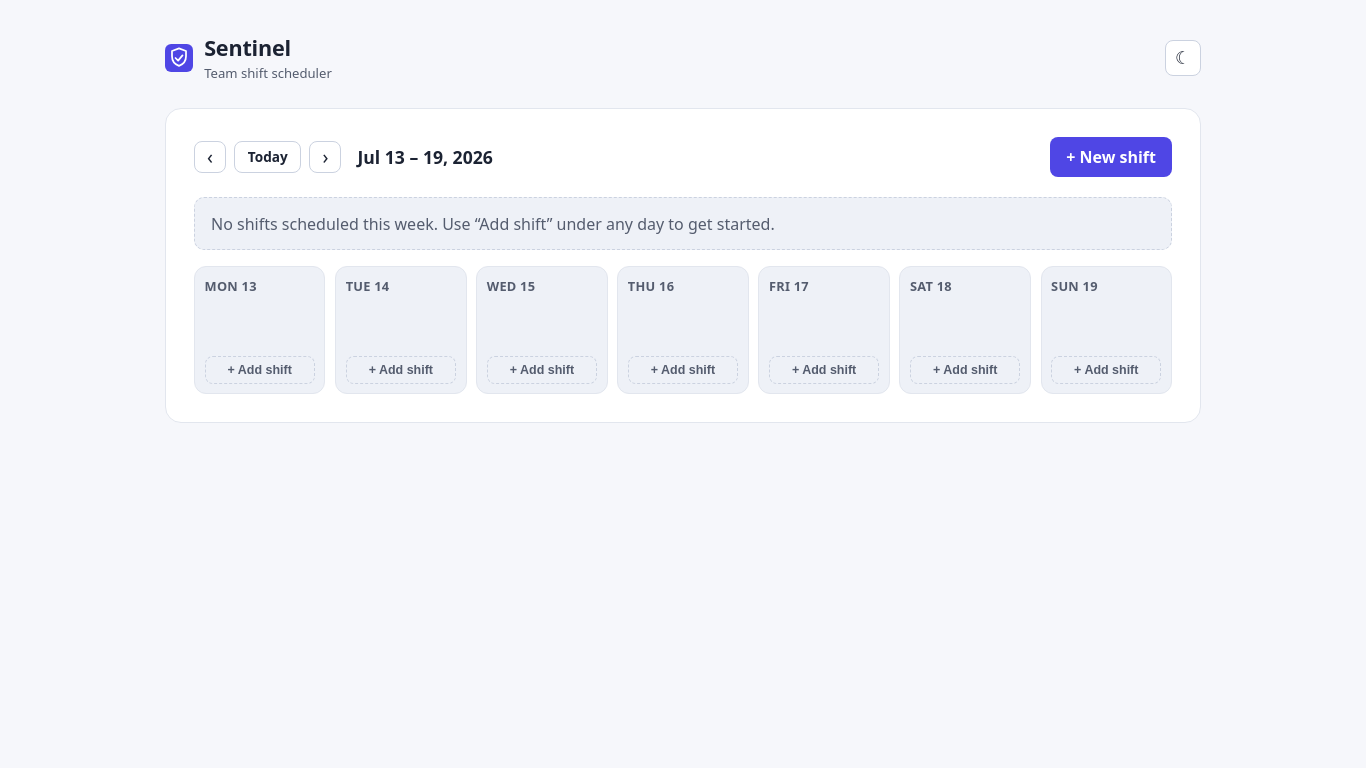
Test case: App › flags a conflict on both cards after creating an overlapping shift
This screenshot has width=1366, height=768.
Expected: the text "No shifts scheduled this week" is shown, [211,213,775,235]
# Create the first shift for Ada, this week.
Click the button "+ New shift" at [1111, 157], box [1050,137,1172,177]
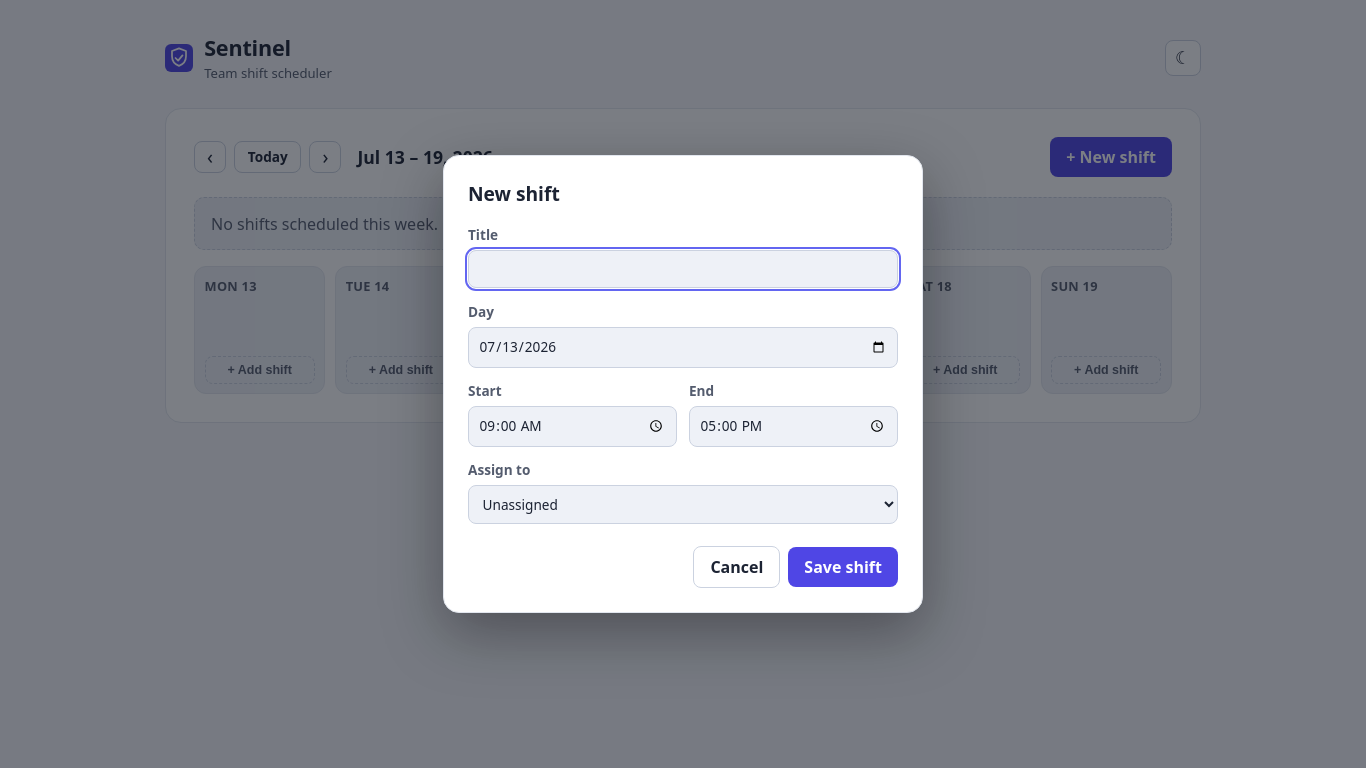
Type "Alpha" into the field labelled "Title" at [683, 269], box [468,250,898,288]
Select "Ada Lovelace" in the dropdown labelled "Assign to" at [683, 505], box [468,486,898,524]
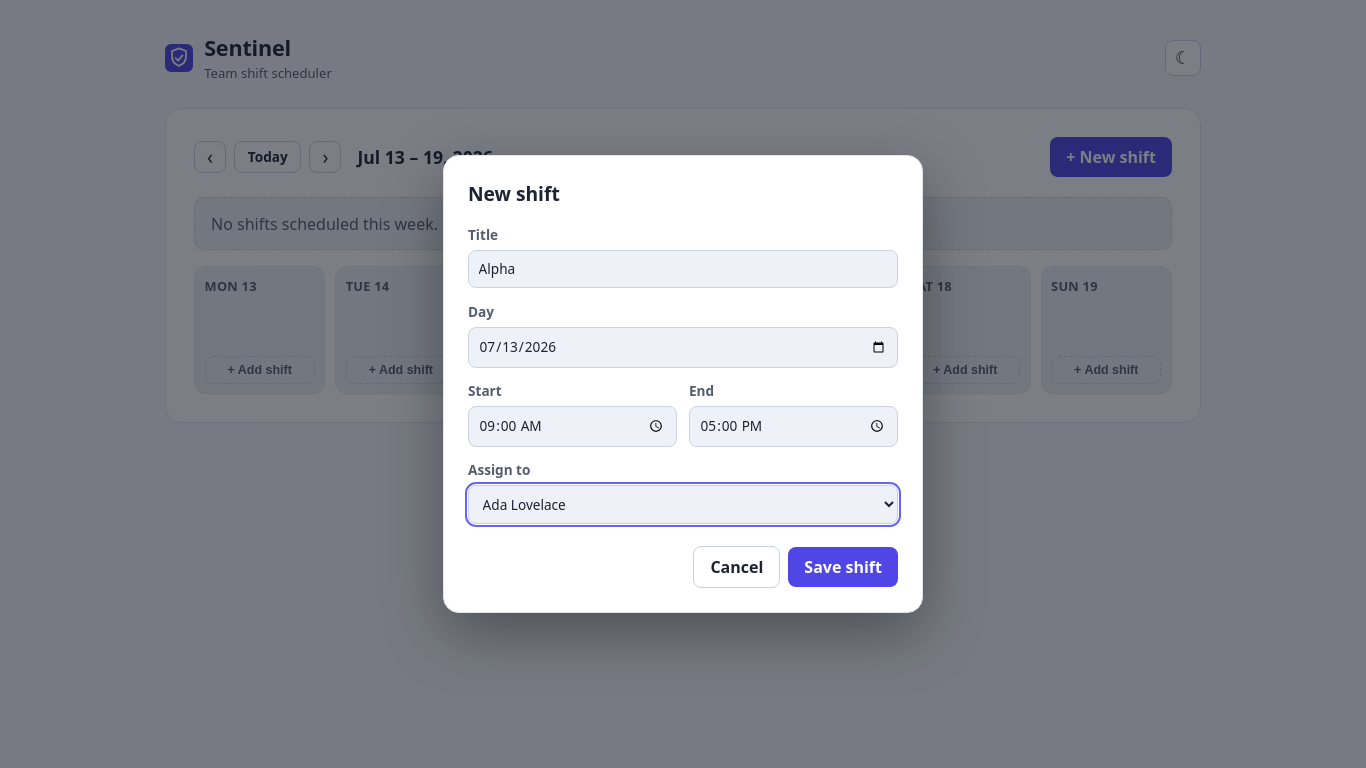
Click the button "Save shift" at [843, 567], box [788,547,898,587]
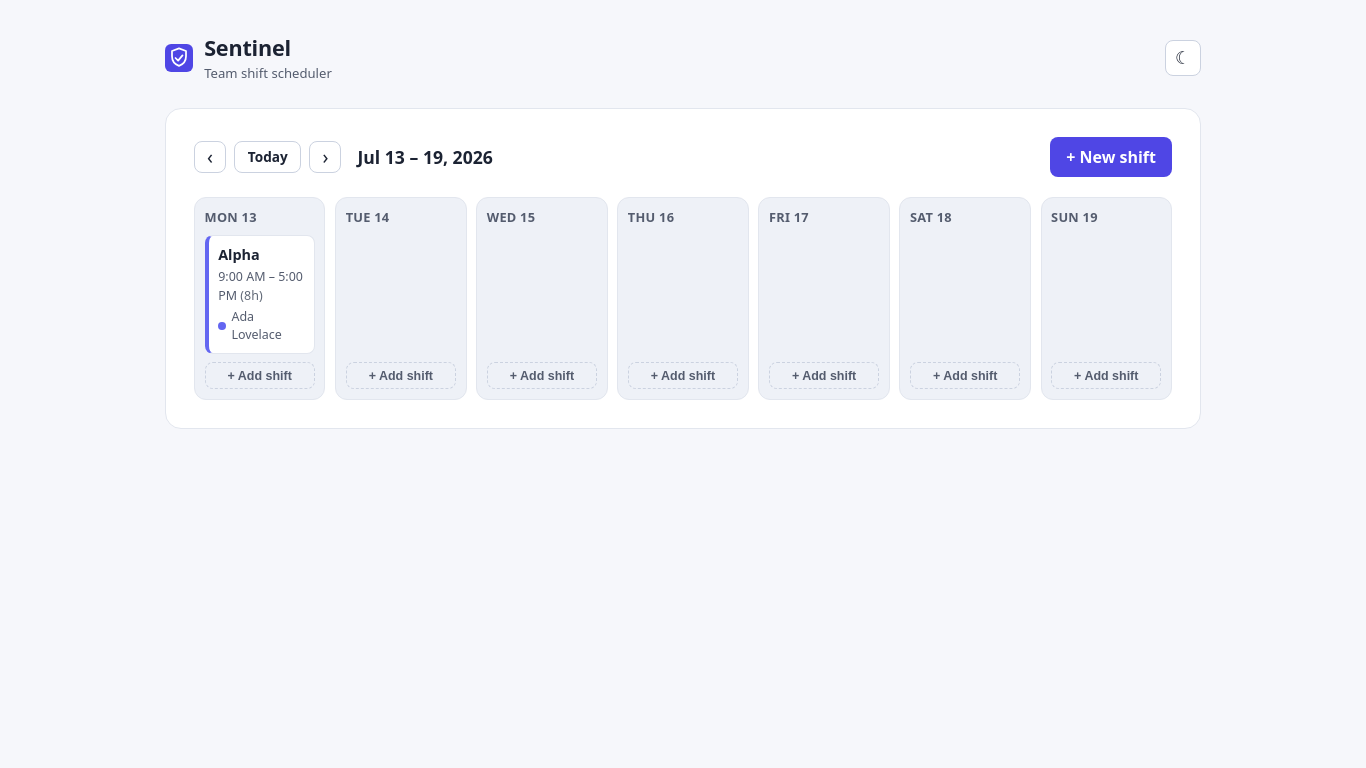
Now the button "Alpha 9:00 AM – 5:00 PM (8h) Ada Lovelace" is shown, box [205,235,315,354]
# Create a second, overlapping shift for the same person on the same day.
Click the button "+ New shift" at [1111, 157], box [1050,137,1172,177]
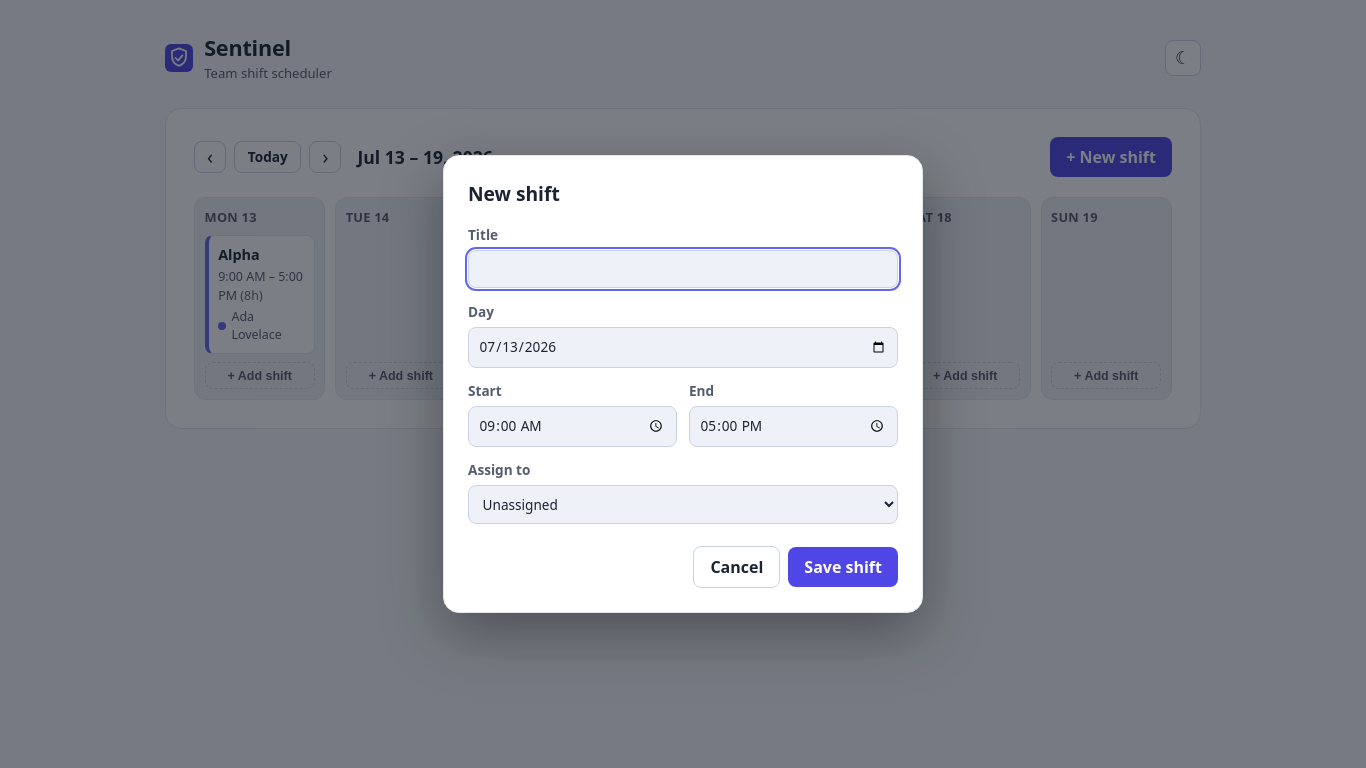
Type "Beta" into the field labelled "Title" at [683, 269], box [468,250,898,288]
Select "Ada Lovelace" in the dropdown labelled "Assign to" at [683, 505], box [468,486,898,524]
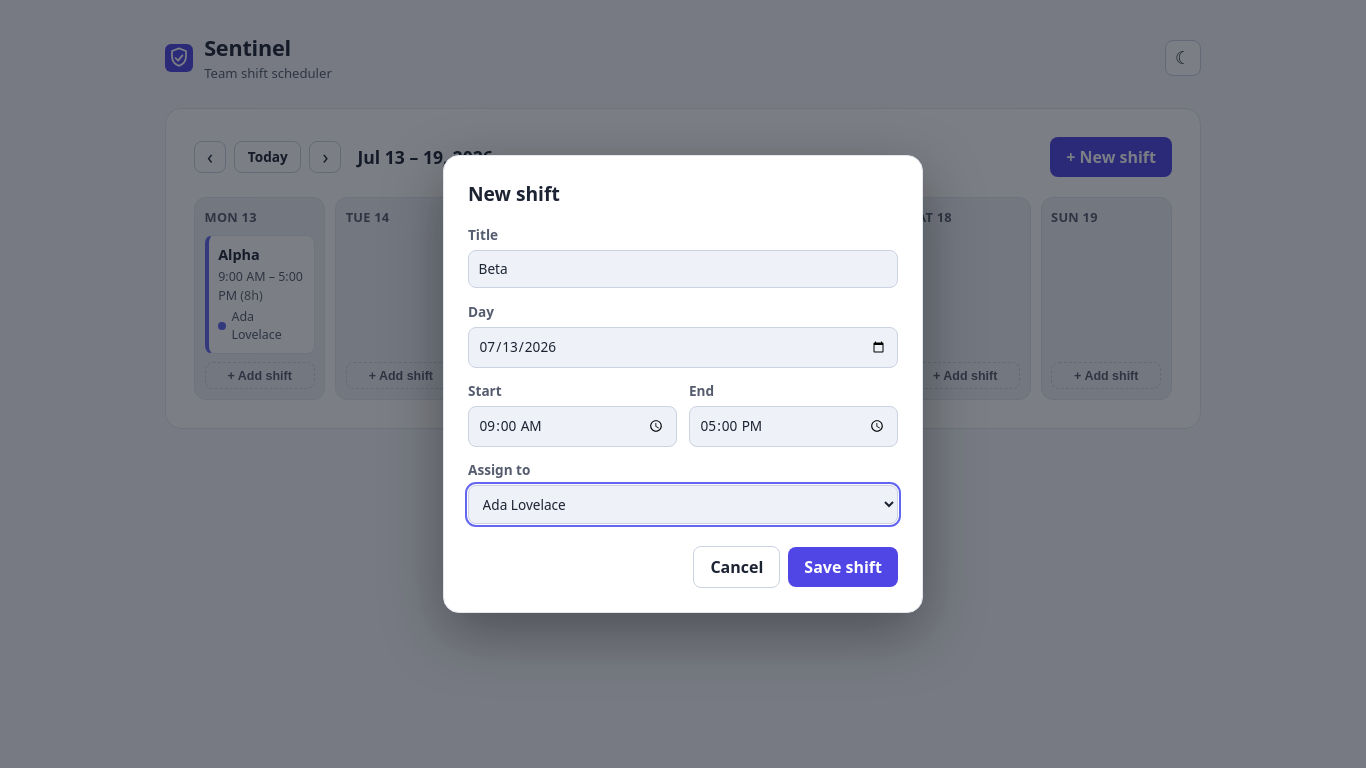
Click the button "Save shift" at [843, 567], box [788,547,898,587]
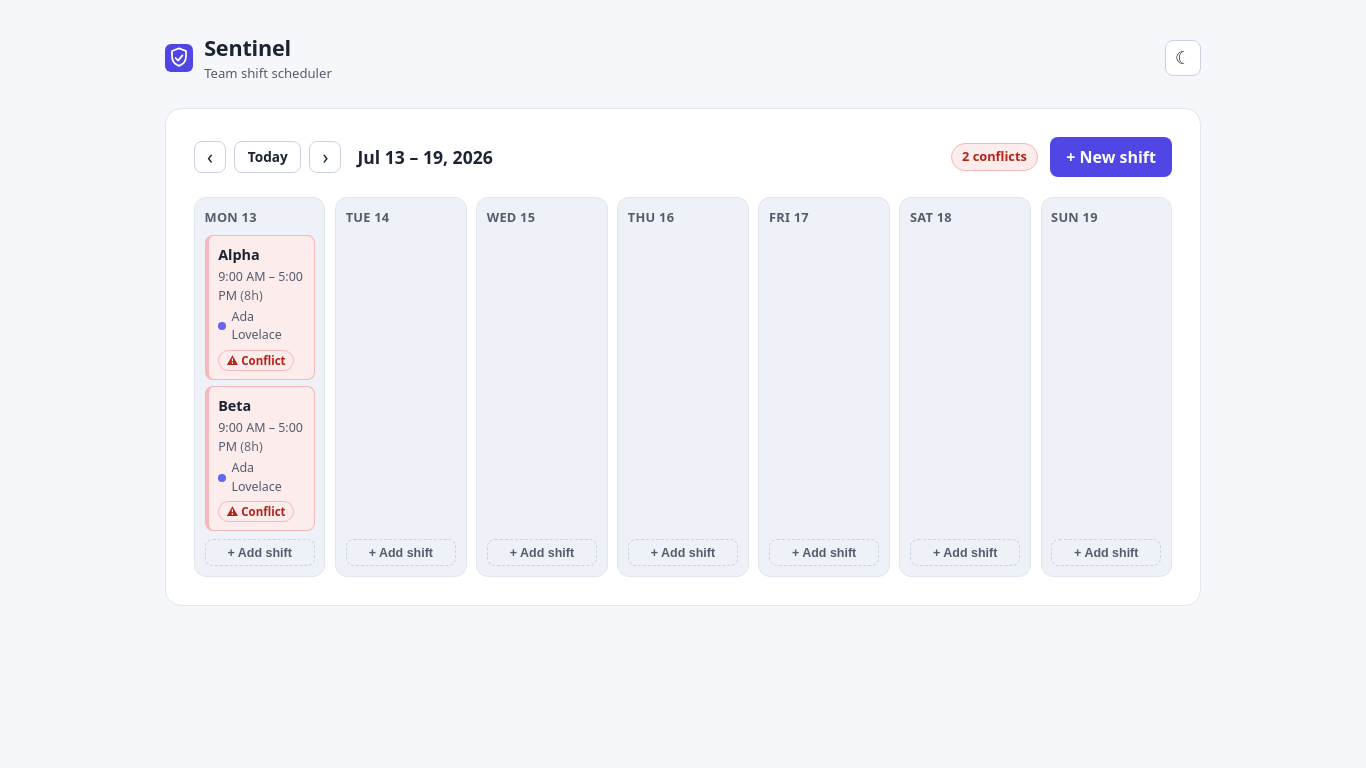
Now the number of elements named "scheduling conflict" is 2, box [218,350,294,371]; [218,501,294,522]
